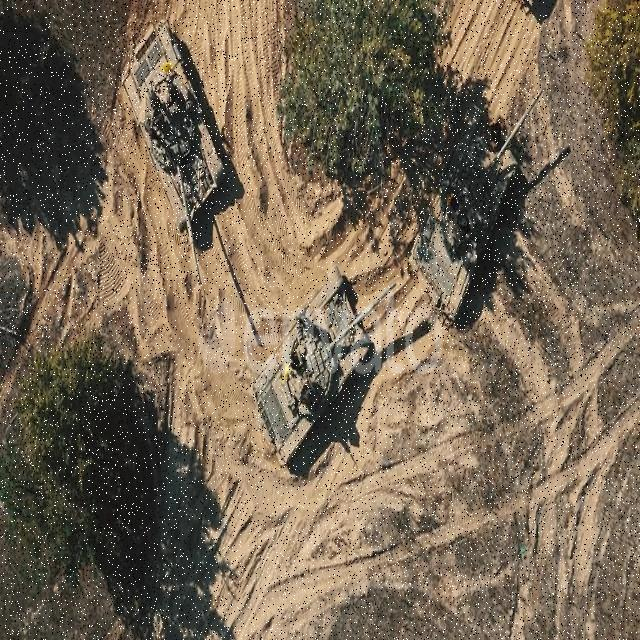MIL_MBT: (406, 79, 550, 331), (253, 263, 400, 476), (122, 21, 238, 290)
